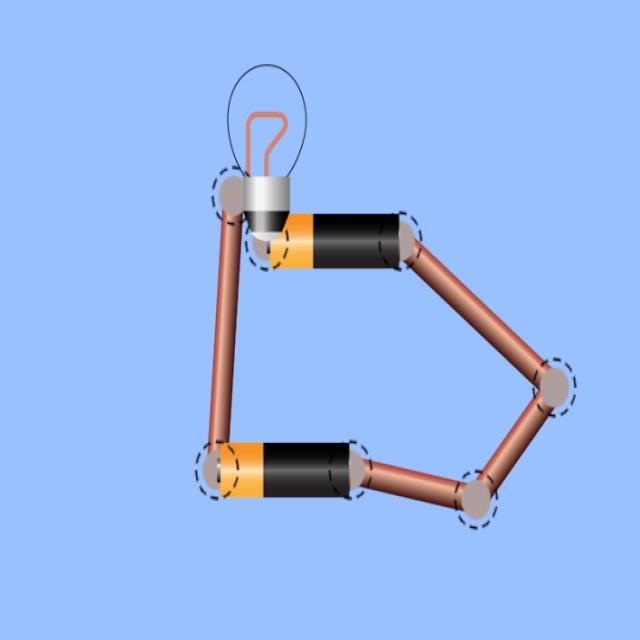Battery: (219, 442, 351, 497), (270, 214, 401, 269)
Light Bulb: (229, 66, 305, 241)
Wire: (404, 241, 549, 387), (208, 211, 242, 452), (478, 391, 552, 496), (360, 460, 466, 510)
